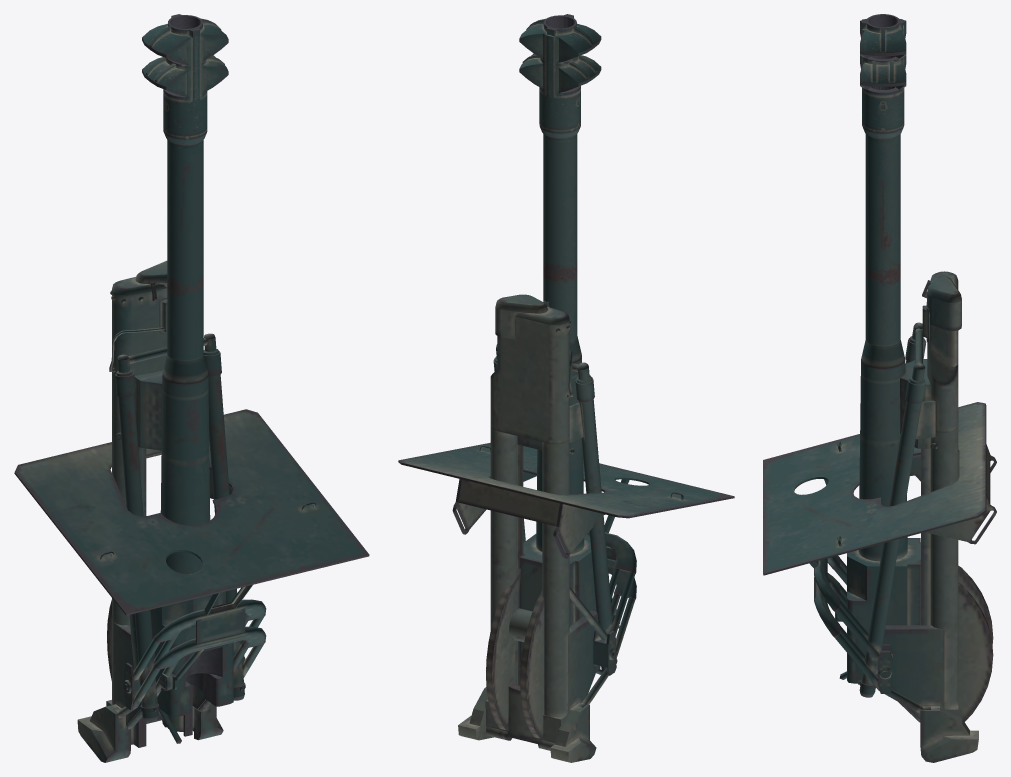
File: Gun_02.glb
3 views of the same model, side by side, from view 1: azimuth 30°, elevation 25°; view 2: azimuth 150°, elevation 25°; view 3: azimuth 270°, elevation 25° (orthographic). The views are drawn at different scales.
Parts seen in each view (by area): view 1: set_0_group_0; view 2: set_0_group_0; view 3: set_0_group_0.
Boxes of the visible parts, box(x1,y1,x2,y2) form: set_0_group_0: box(14, 14, 369, 762); set_0_group_0: box(398, 14, 734, 762); set_0_group_0: box(763, 14, 996, 762).
Size of the model in its own units: 1.06 by 3.1 by 0.9187.
Materials: 1 (1 with a texture image).
